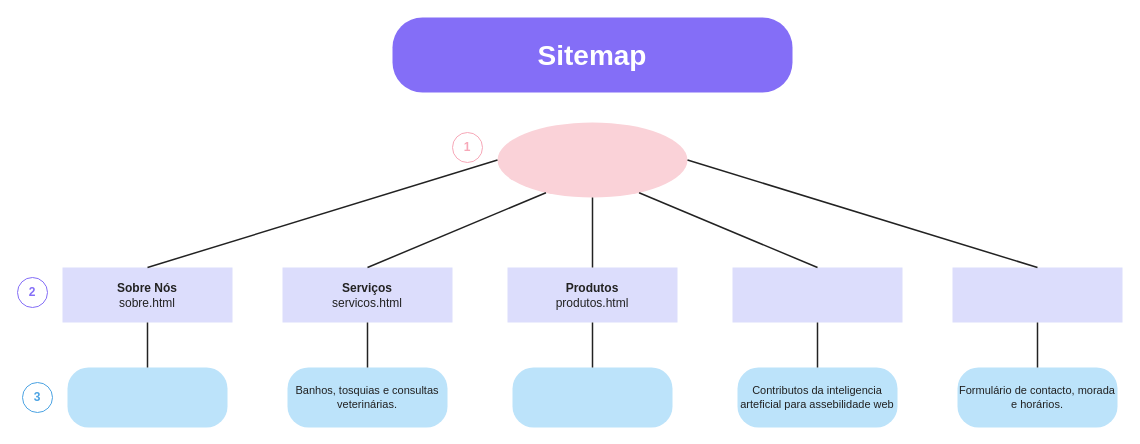
Some shapes in this 1140 by 444 pixel diagram are drawn without their labels. The shapes that lost their labels are listed below. From the top down, each one's centre as x and y in pixels, then its label:
At point (592, 159): "PetCare — Início index.html".
At point (817, 294): "Artigo / Blog artigo.html".
At point (1037, 294): "Contacto contacto.html".
At point (147, 397): "Missão, história da loja e apresentação da equipa.".
At point (592, 397): "Catálogo de rações, brinquedos e acessórios.".
